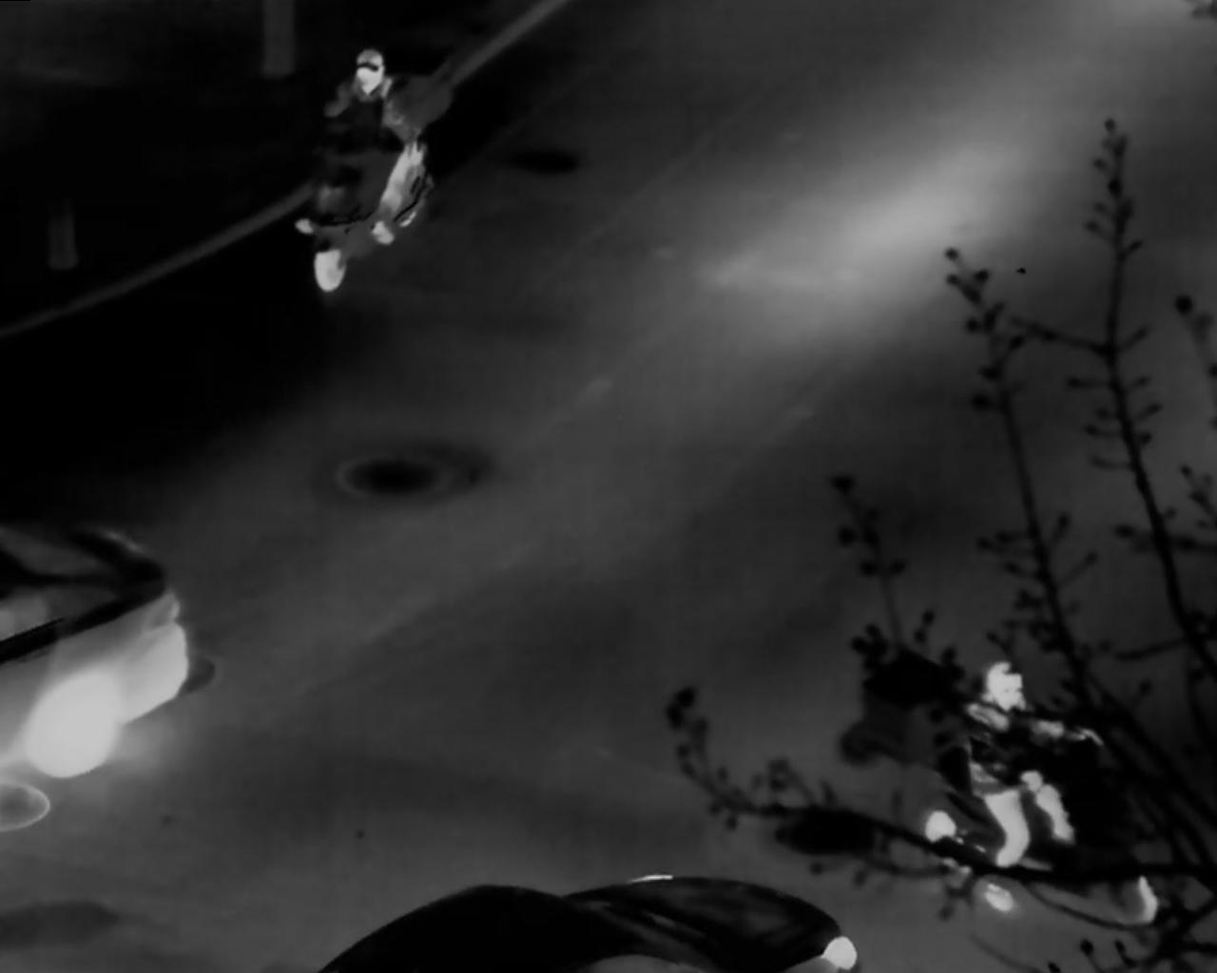person: (965, 660, 1102, 919), (321, 43, 418, 162)
